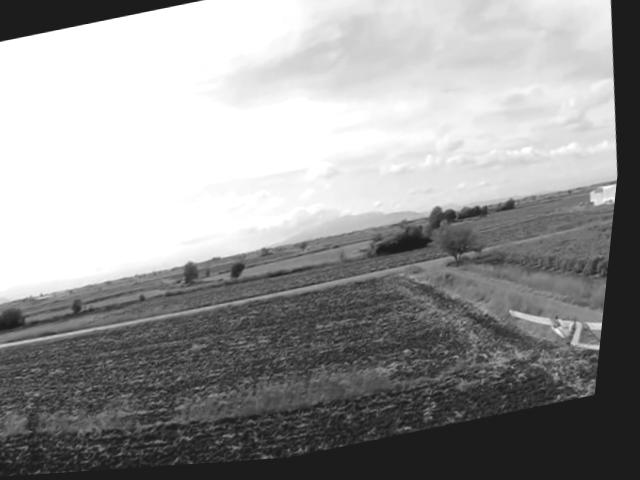hedef: (509, 292, 613, 383)
